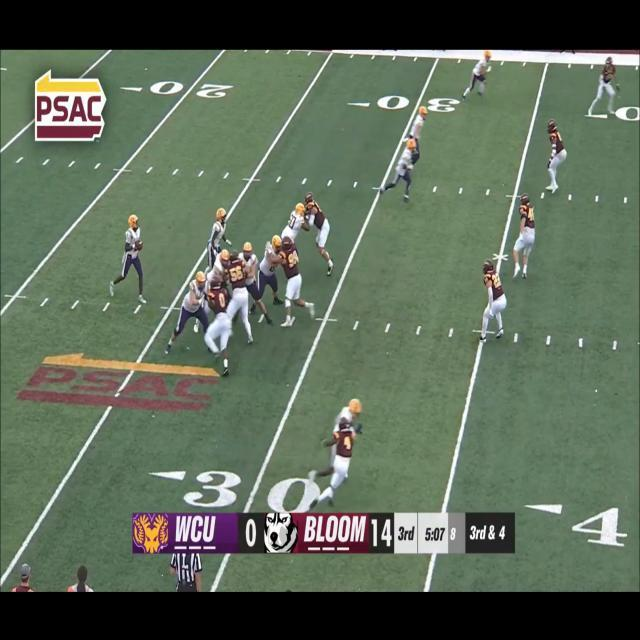football: (132, 238, 144, 252)
